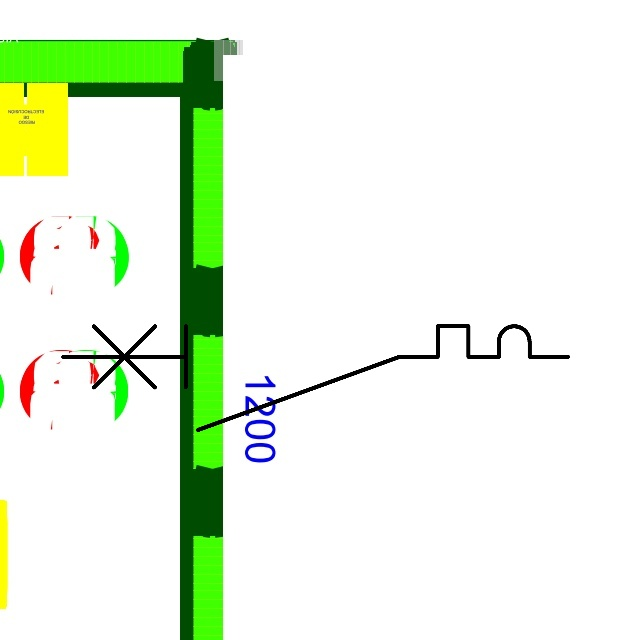interruptor_termomagnetico: (50, 313, 581, 443)
